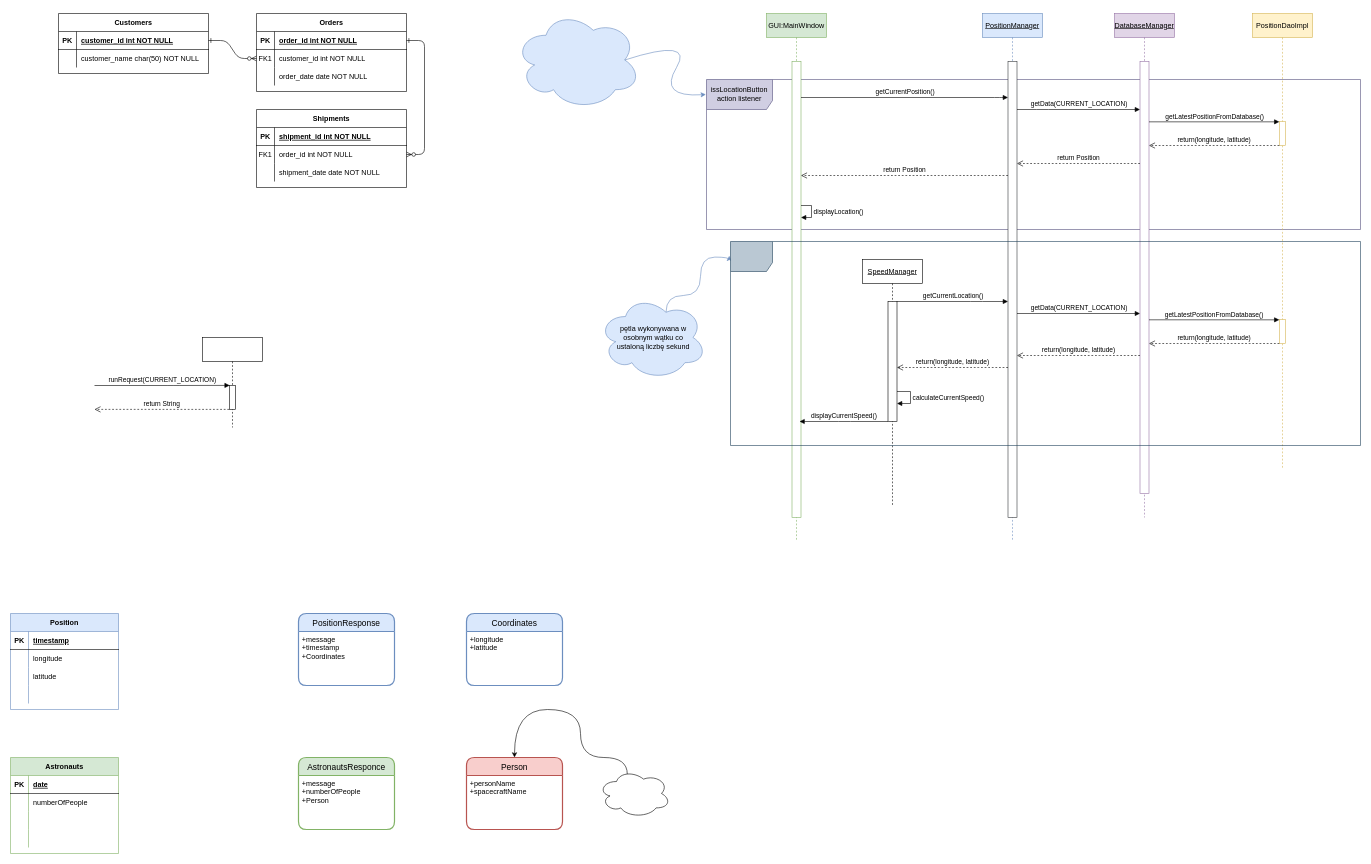
Image size: 1371x864. Some labels were removed from this diagram. Here are the shapes that lost their labels. From the top down, the centre of each, then its label:
(x=577, y=60): użytkownik wcisnął przycisk "Pokaż lokację stacji"
(x=1045, y=343): loop [5 sec?]
(x=232, y=382): IssApiCall
(x=634, y=793): Opcjonalnie
